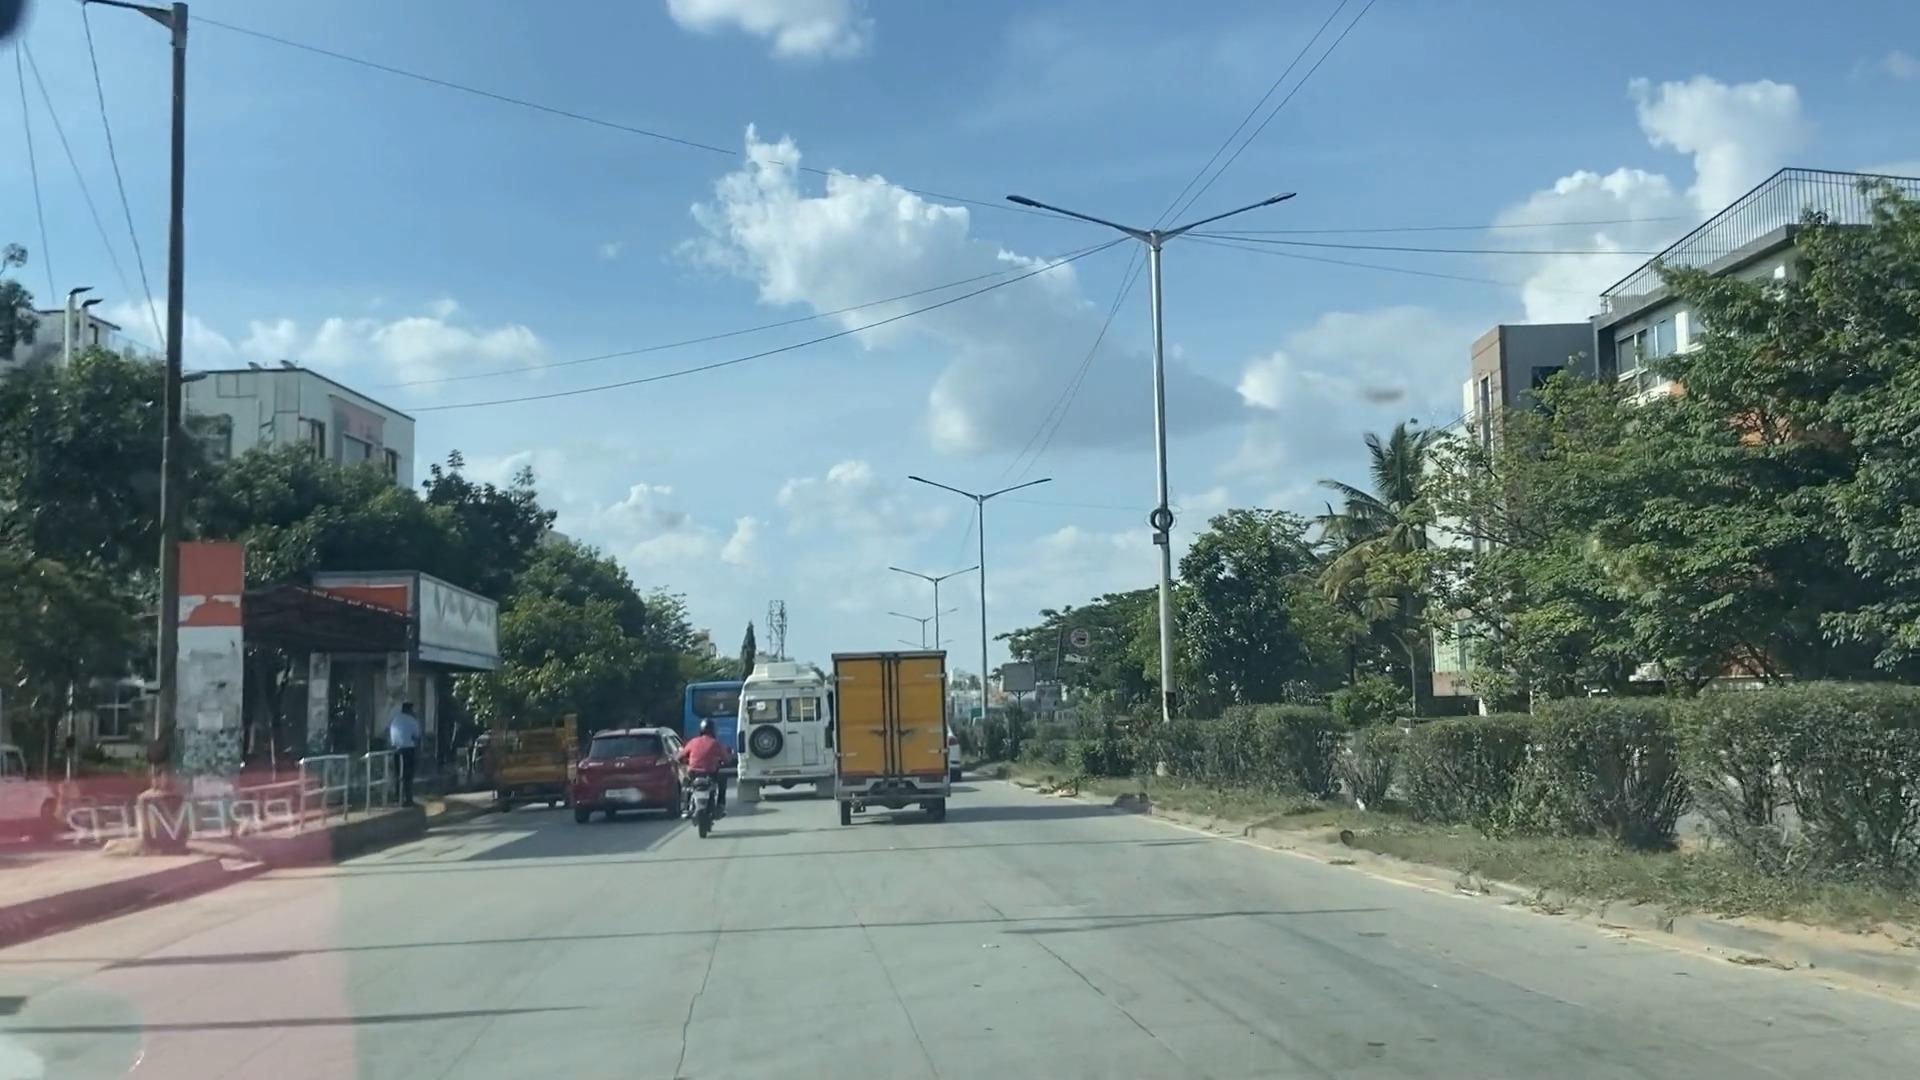HMV: (820, 638, 961, 815)
LMV: (576, 730, 687, 818), (676, 724, 732, 819)
